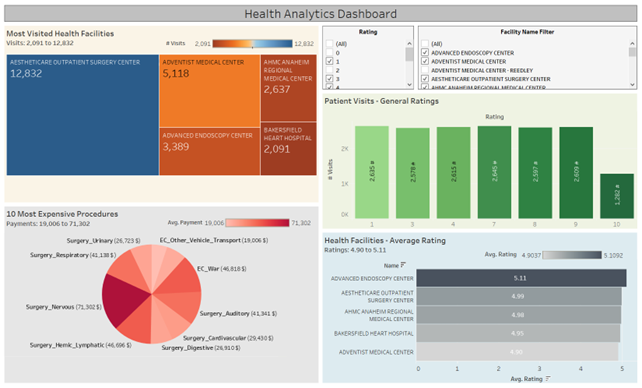

What the dashboard file says about the page in this screenshot:
{"tool":"tableau","page":{"name":"Health Analytics Dashboard","canvas":[1325,800],"ordinal":0},"visuals":[{"type":"title","box":[8,8,1309,42]},{"type":"worksheet","title":"Facility_visits","mark":"Automatic","box":[8,50,654.2,370.9]},{"type":"filter","title":"general_rating","param":"[federated.18eqa991qvz7dq1027ao20exm7q7].[none:rating:ok]","box":[662.2,50,195.7,139]},{"type":"filter","title":"general_rating","param":"[federated.18eqa991qvz7dq1027ao20exm7q7].[none:name:nk]","box":[858,50,459,139]},{"type":"legend","title":"Facility_visits","param":"[federated.18eqa991qvz7dq1027ao20exm7q7].[__tableau_internal_object_id__].[cnt:v","box":[328,79,325,29]},{"type":"worksheet","title":"general_rating","mark":"Automatic","rows":["visitfact_9F72E4588B574E05BF64E558F57777E5"],"cols":["rating"],"box":[662.2,189,654.7,286]},{"type":"worksheet","title":"expensive_procedures","mark":"Pie","box":[8,420.9,654.2,371.1]},{"type":"legend","title":"expensive_procedures","param":"[federated.18eqa991qvz7dq1027ao20exm7q7].[avg:payment:qk]","box":[348,447,299,32]},{"type":"worksheet","title":"facility_rating","mark":"Automatic","rows":["name"],"cols":["rating"],"box":[662.2,475,654.7,317]},{"type":"legend","title":"facility_rating","param":"[federated.18eqa991qvz7dq1027ao20exm7q7].[avg:rating:qk]","box":[1000,513,289,30]}]}

Visuals, with their boxes in screenshot pixels (x1, y1, x2, y2), scaled from the page's 1325x800 canvas onto the 642x388 screenshot:
title: {"x1": 4, "y1": 4, "x2": 638, "y2": 24}
"Facility_visits" worksheet: {"x1": 4, "y1": 24, "x2": 321, "y2": 204}
"general_rating" filter: {"x1": 321, "y1": 24, "x2": 416, "y2": 92}
"general_rating" filter: {"x1": 416, "y1": 24, "x2": 638, "y2": 92}
"Facility_visits" legend: {"x1": 159, "y1": 38, "x2": 316, "y2": 52}
"general_rating" worksheet: {"x1": 321, "y1": 92, "x2": 638, "y2": 230}
"expensive_procedures" worksheet (Pie marks): {"x1": 4, "y1": 204, "x2": 321, "y2": 384}
"expensive_procedures" legend: {"x1": 169, "y1": 217, "x2": 313, "y2": 232}
"facility_rating" worksheet: {"x1": 321, "y1": 230, "x2": 638, "y2": 384}
"facility_rating" legend: {"x1": 485, "y1": 249, "x2": 625, "y2": 263}
